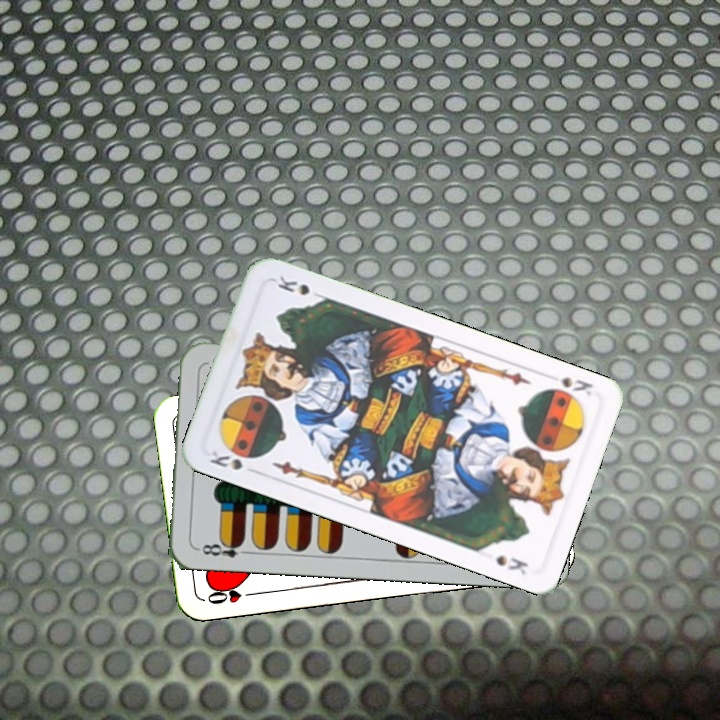E8: (193, 535, 252, 560)
HO: (203, 582, 260, 607)
SK: (206, 446, 262, 477), (555, 373, 596, 399)
